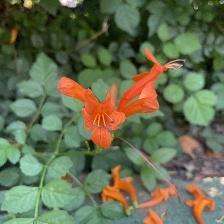honeysuckle: (75, 81, 126, 150)
